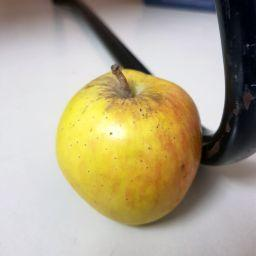apple: (31, 48, 228, 238)
